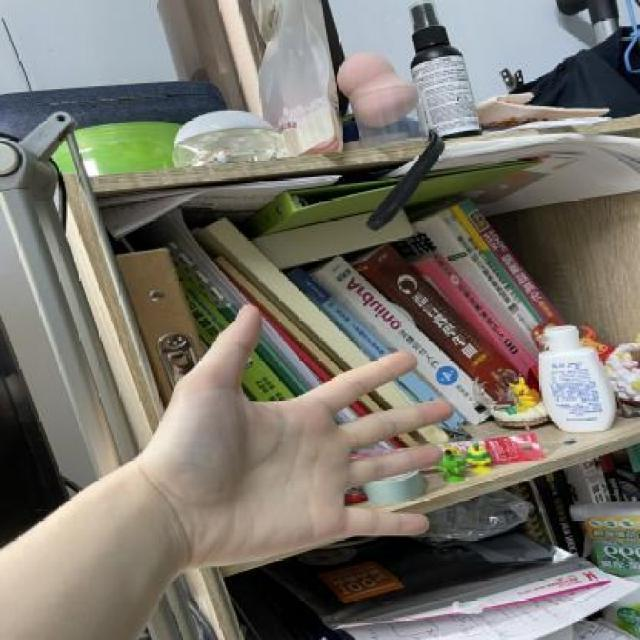hand: (127, 271, 458, 571)
